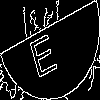E: (25, 24, 59, 79)
